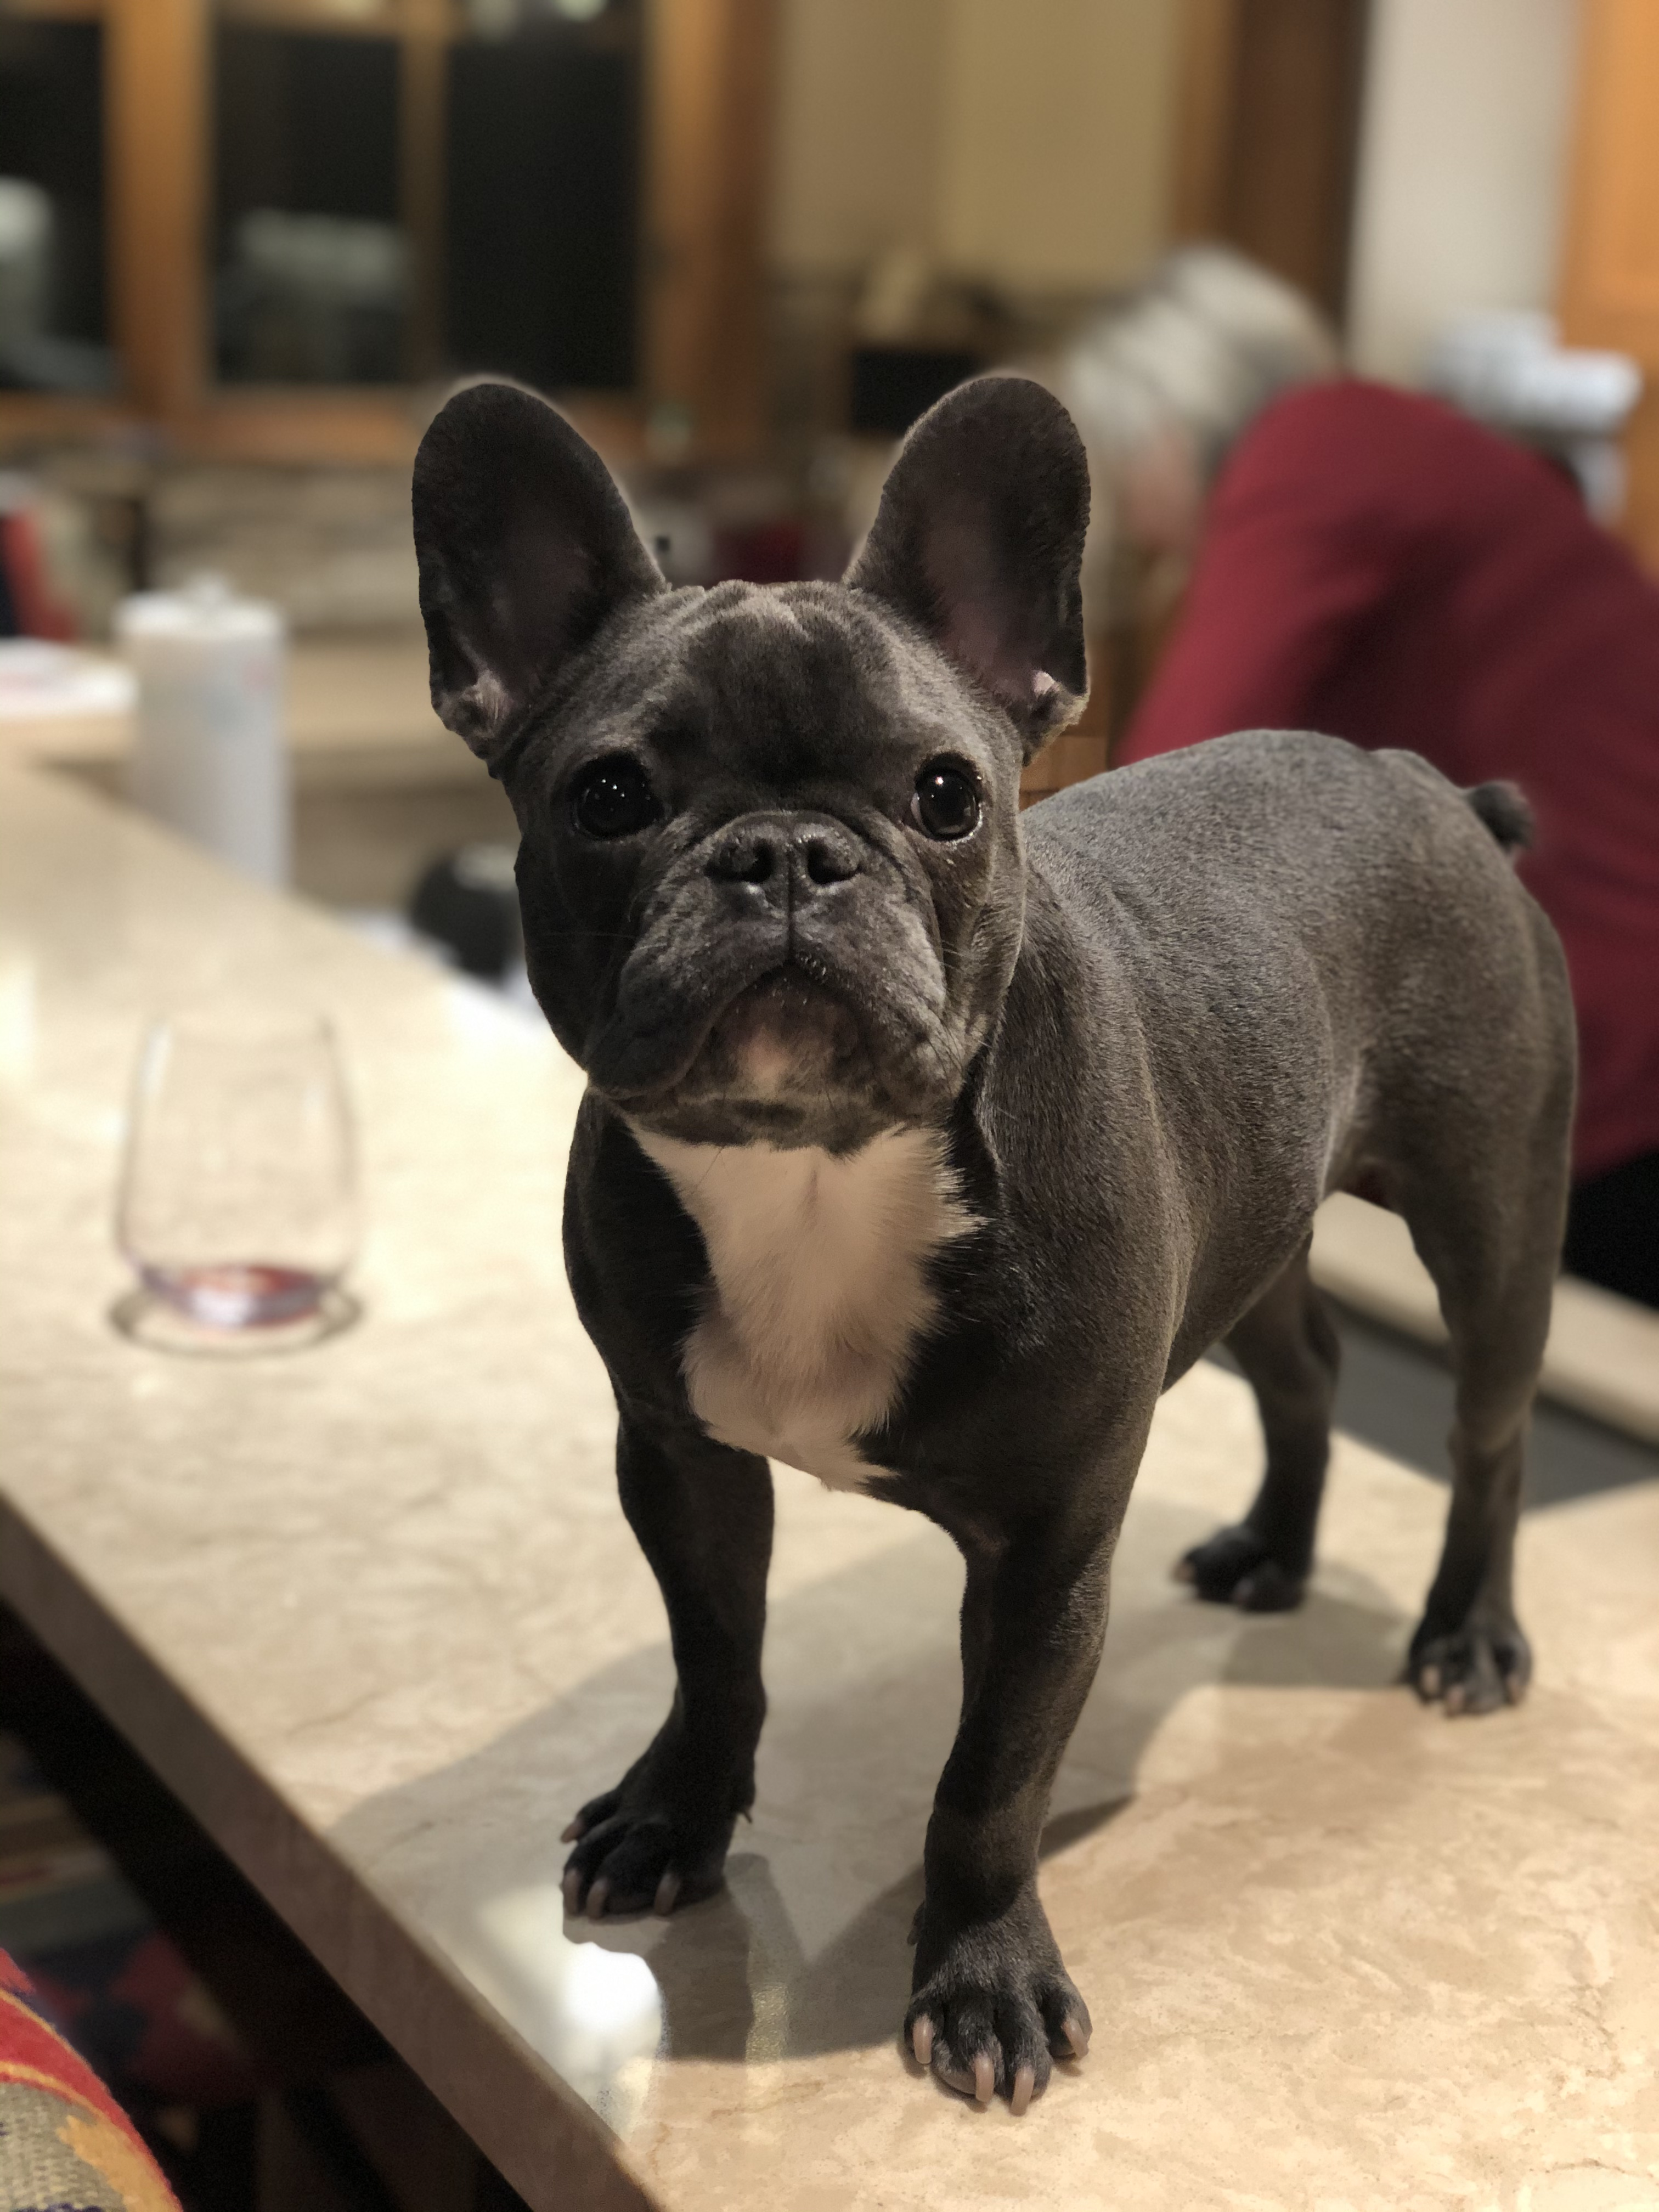lucy: (403, 355, 1589, 2135)
